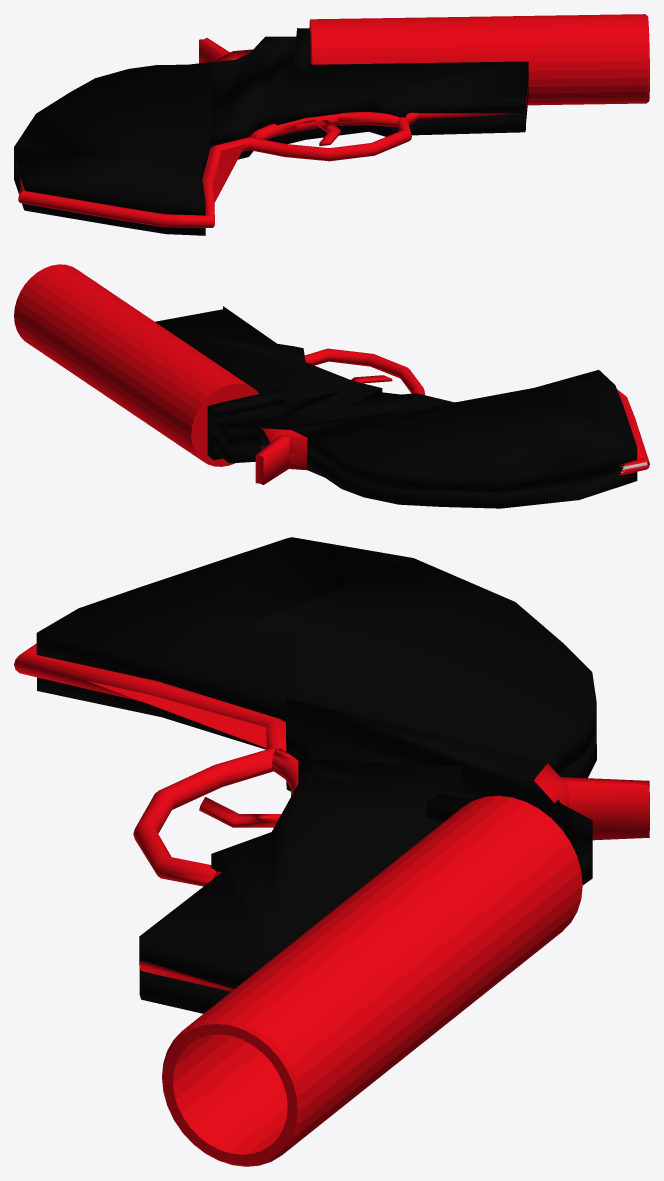
The model's file is bengala.fbx.
The picture shows the model from 3 angles, top to bottom: view 1: azimuth 30°, elevation 25°; view 2: azimuth 150°, elevation 25°; view 3: azimuth 270°, elevation 25°; orthographic projection. The views are drawn at different scales.
Parts seen in each view (by area): view 1: BezierCurve.005, Cylinder, BezierCurve.002, BezierCurve.004; view 2: BezierCurve.005, Cylinder, BezierCurve.002, BezierCurve.004; view 3: BezierCurve.005, Cylinder, BezierCurve.002, BezierCurve.004.
Part boxes in pixels (bbox=[...]): BezierCurve.005: bbox=[14, 28, 528, 235]; Cylinder: bbox=[309, 14, 649, 105]; BezierCurve.002: bbox=[18, 81, 528, 227]; BezierCurve.004: bbox=[199, 38, 255, 63]; BezierCurve.005: bbox=[155, 306, 637, 508]; Cylinder: bbox=[14, 264, 259, 466]; BezierCurve.002: bbox=[304, 348, 649, 474]; BezierCurve.004: bbox=[255, 428, 307, 484]; BezierCurve.005: bbox=[36, 537, 596, 1013]; Cylinder: bbox=[162, 795, 582, 1166]; BezierCurve.002: bbox=[14, 643, 298, 991]; BezierCurve.004: bbox=[534, 763, 649, 840].
Size of the model in its own units: 1773 by 217 by 865.
